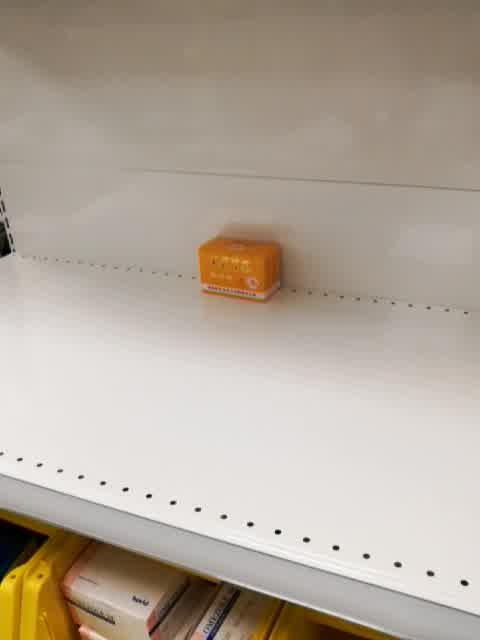jasminetea: (197, 236, 283, 305)
